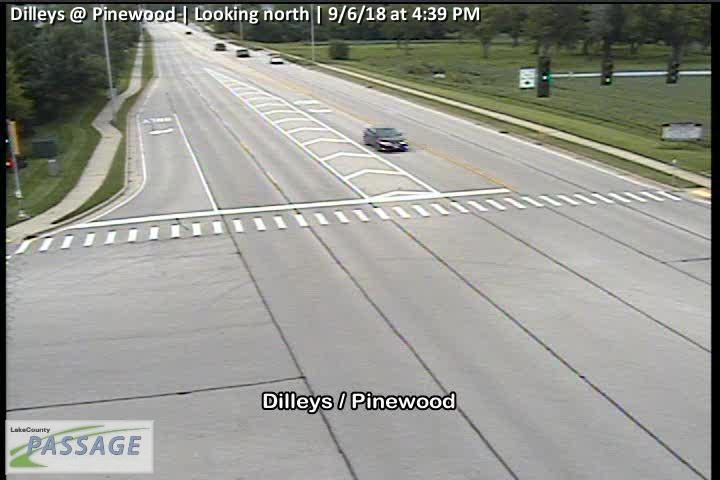Sedan: (362, 125, 410, 154)
